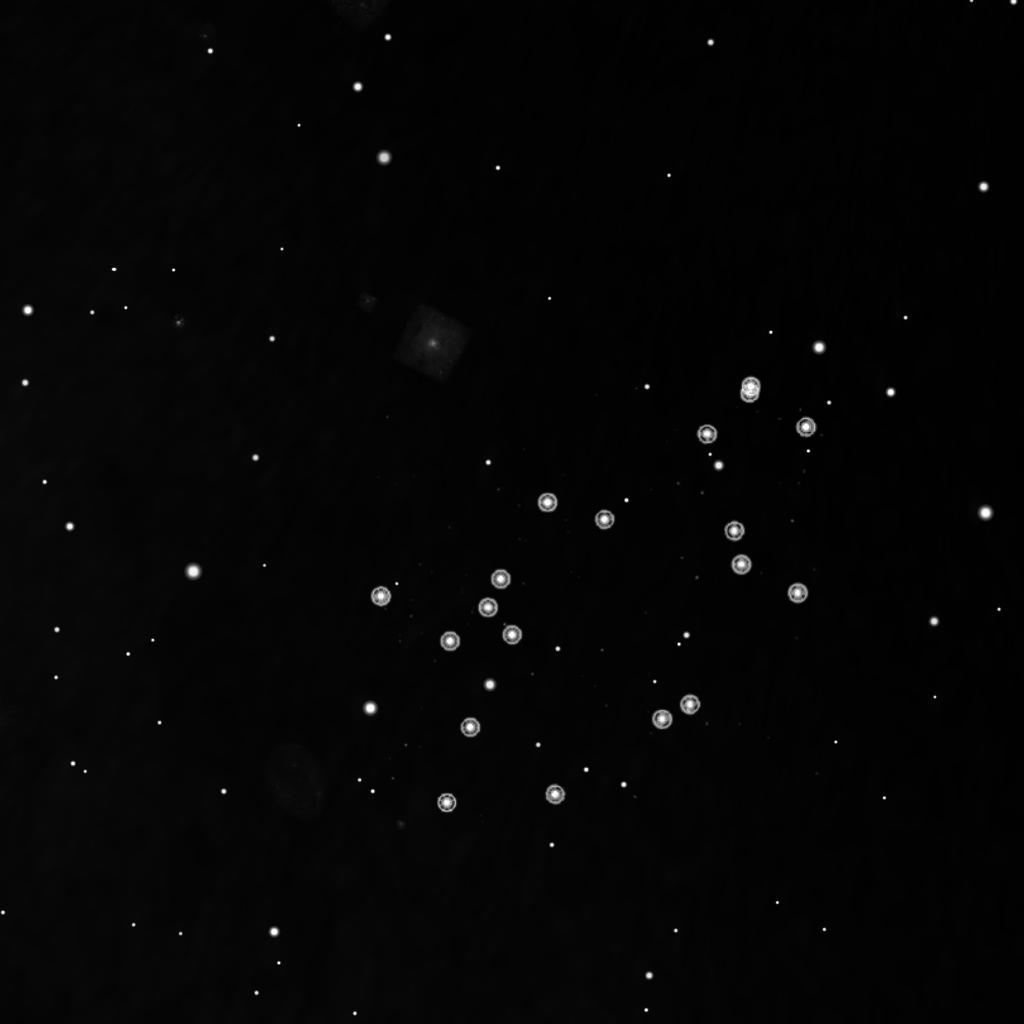canis_major: (427, 484, 623, 663)
